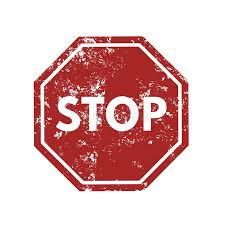stop sign: (34, 36, 189, 193)
